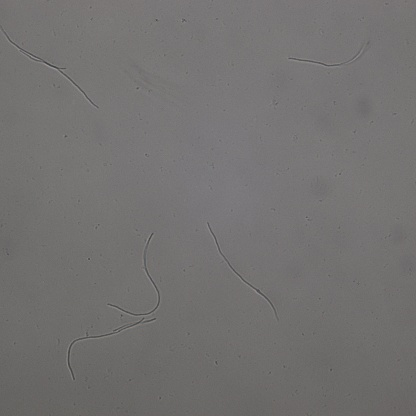Sensitive: (208, 223, 281, 320), (67, 318, 157, 381), (107, 232, 160, 316), (22, 52, 98, 109), (1, 28, 66, 70), (288, 43, 368, 67)
